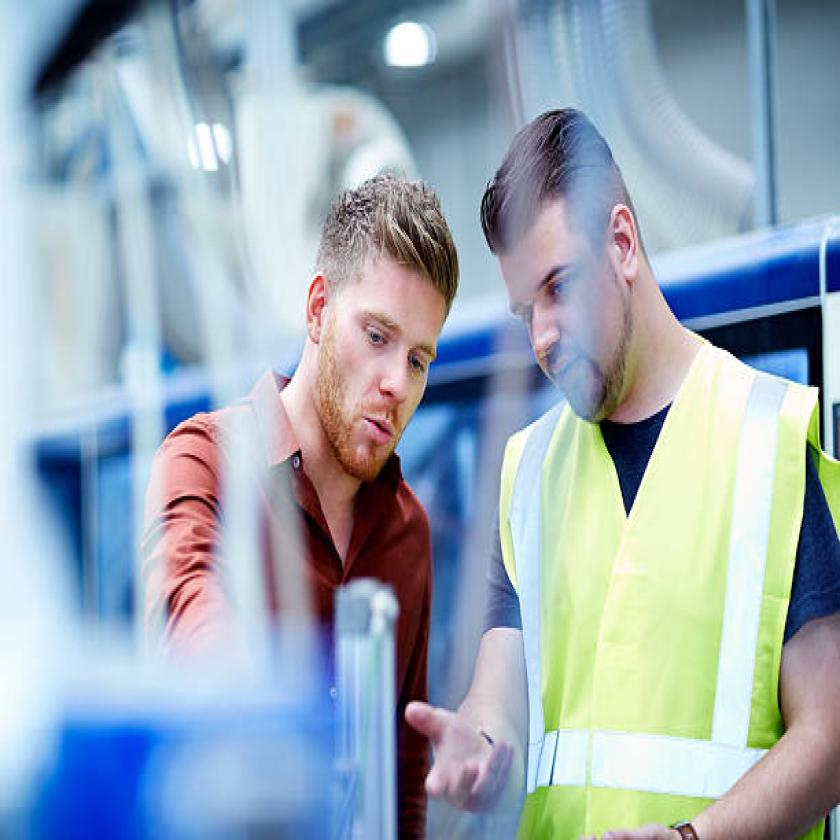Sin_casco: (487, 83, 660, 455), (305, 163, 475, 481)
